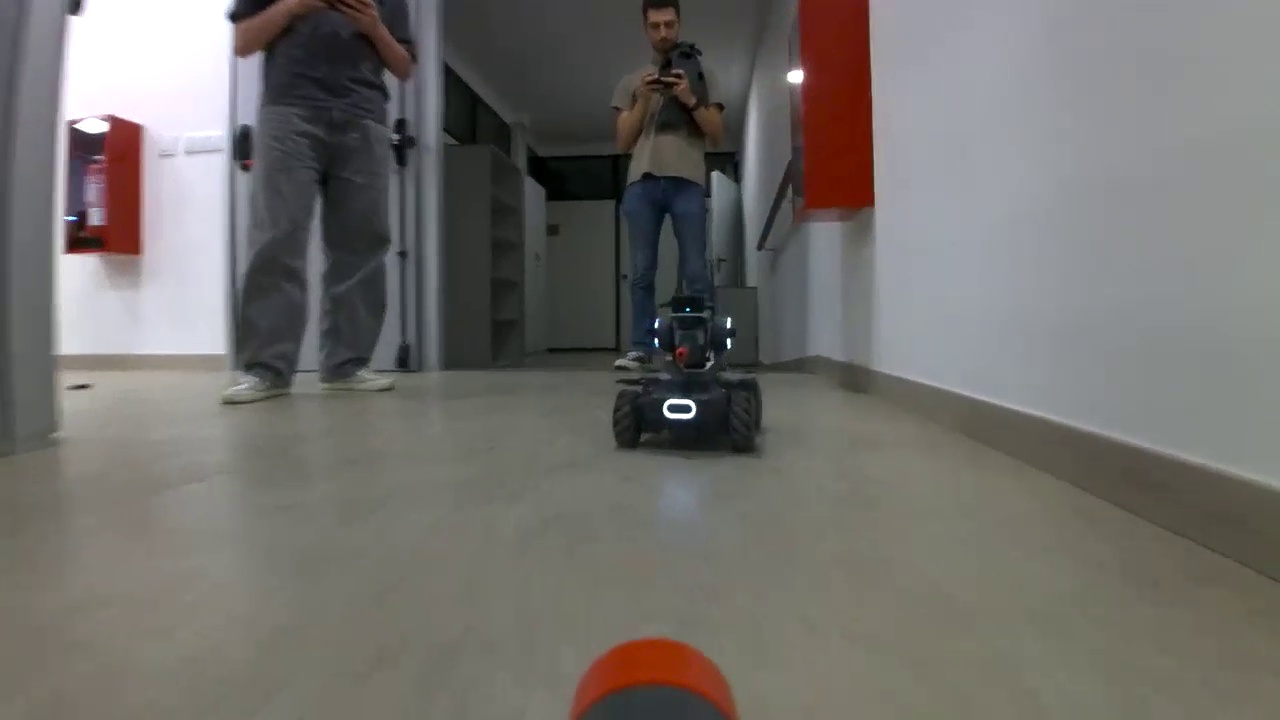robot: (613, 291, 768, 453)
